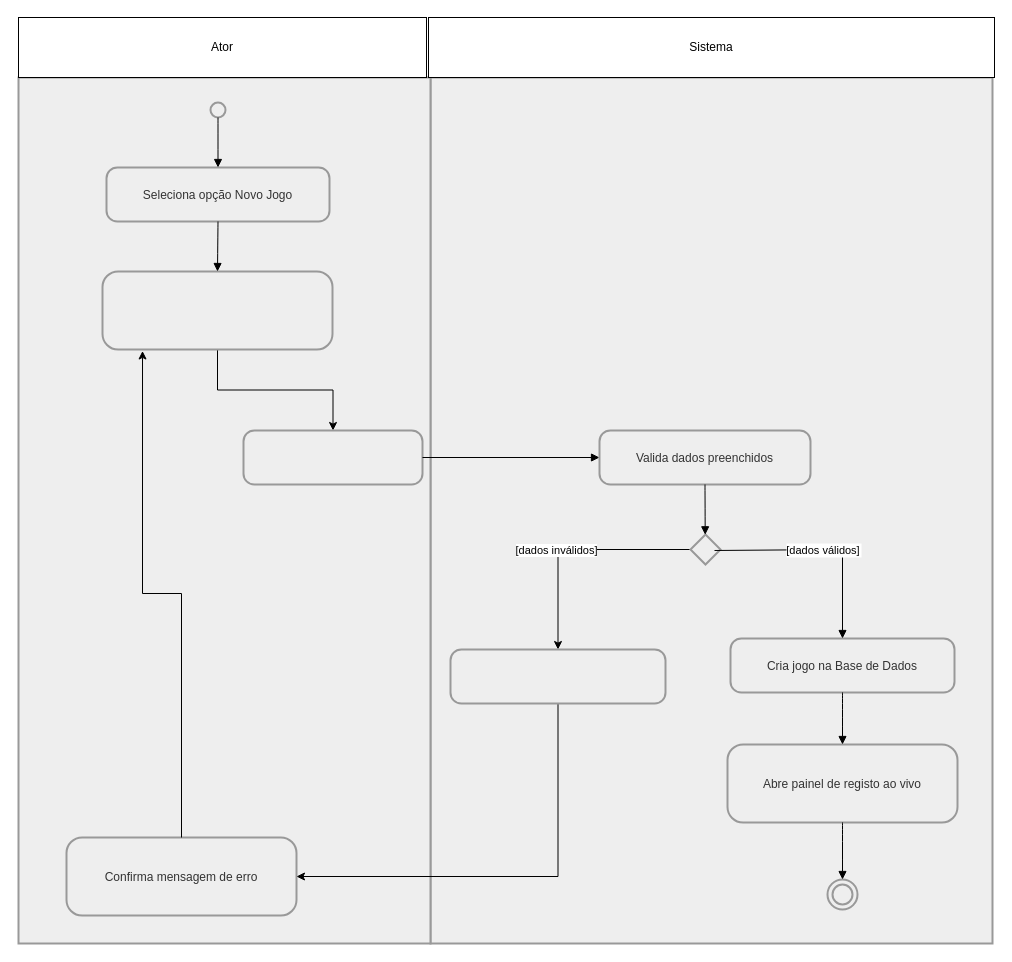
The diagram is 1012 pixels wide and 962 high, and some of its shapes have lost their labels. The shapes that lost their labels are listed below. From the top down, each one's centre as x and y in pixels, then its label:
the point at 217,310: Introduz dados das equipas e jogadores
the point at 332,457: Clica em Iniciar Jogo
the point at 557,676: Mostra mensagem de erro
